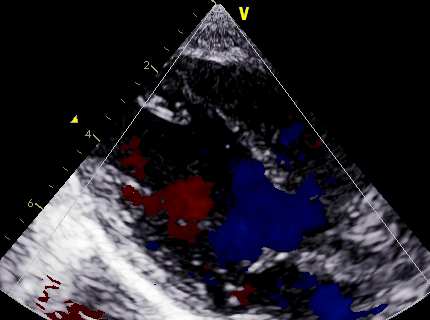AR: (159, 160, 234, 226)
